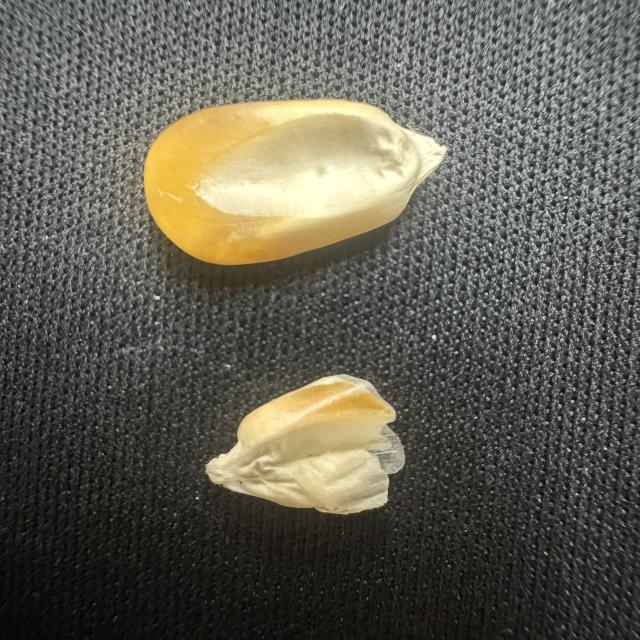Bad-Seed: (195, 362, 423, 540)
Good-Seed: (130, 86, 457, 268)
